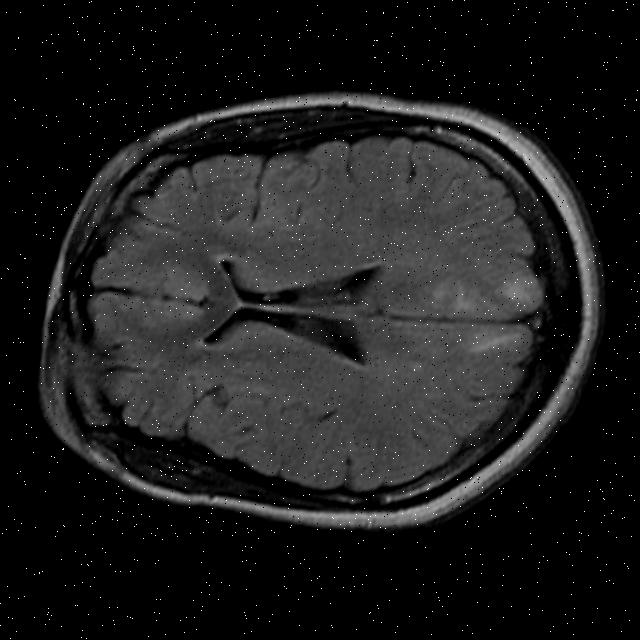NoTumor: (36, 75, 591, 545)
